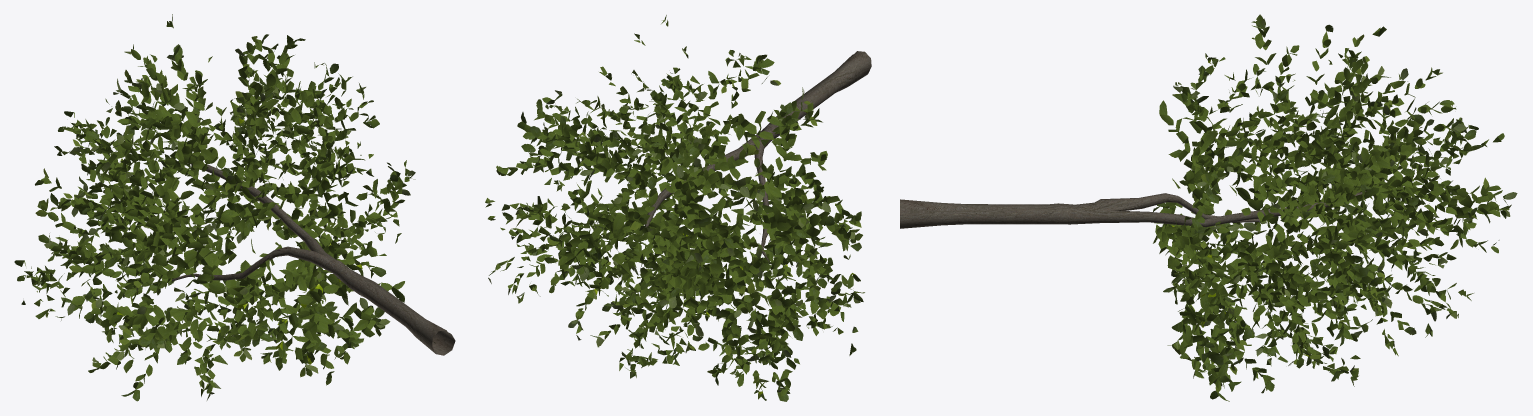
The model's file is W_StreetTree_L1.fbx.
The picture shows the model from 3 angles, left to right: view 1: azimuth 30°, elevation 25°; view 2: azimuth 150°, elevation 25°; view 3: azimuth 270°, elevation 25°; orthographic projection. The views are drawn at different scales.
Visible parts, largest first — view 1: W_StreetTree_L1; view 2: W_StreetTree_L1; view 3: W_StreetTree_L1.
Part boxes in pixels (x1,y1,x2,y2): W_StreetTree_L1: [14, 14, 455, 401]; W_StreetTree_L1: [485, 15, 871, 401]; W_StreetTree_L1: [900, 14, 1517, 401].
Bounding box in the file's own units: 4.21 × 5.97 × 3.73.
